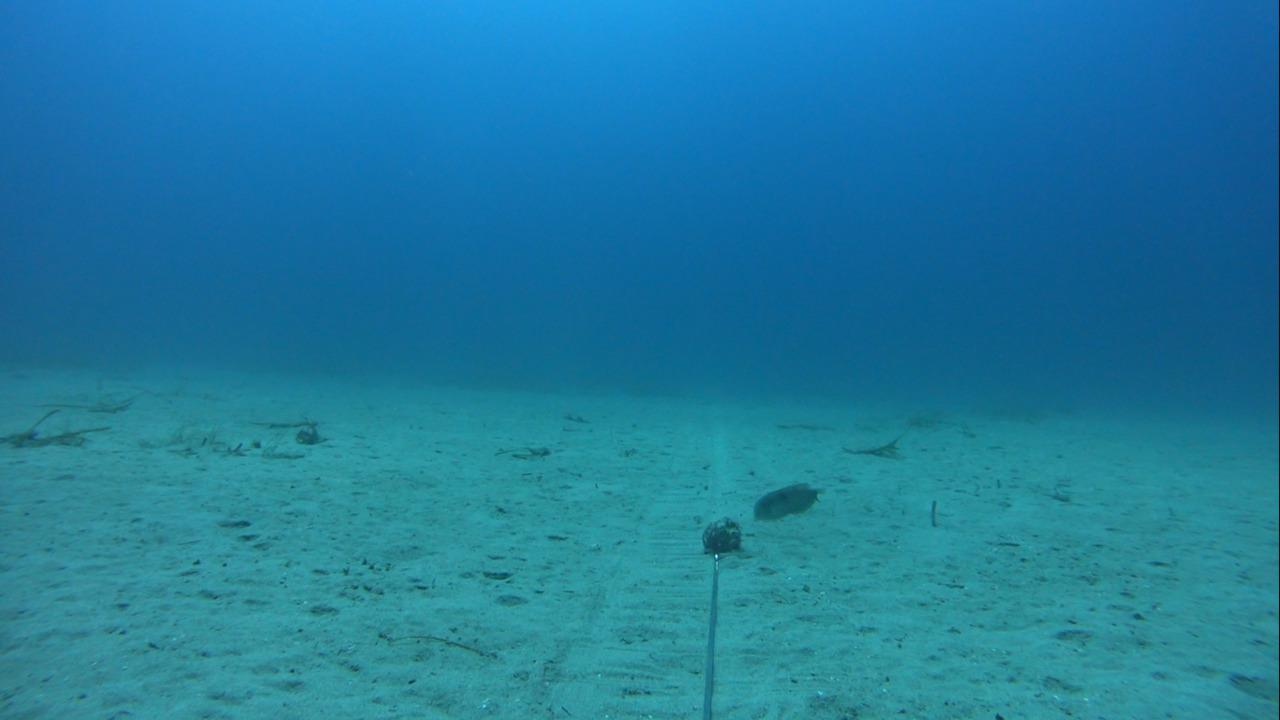raor: (749, 479, 826, 525)
